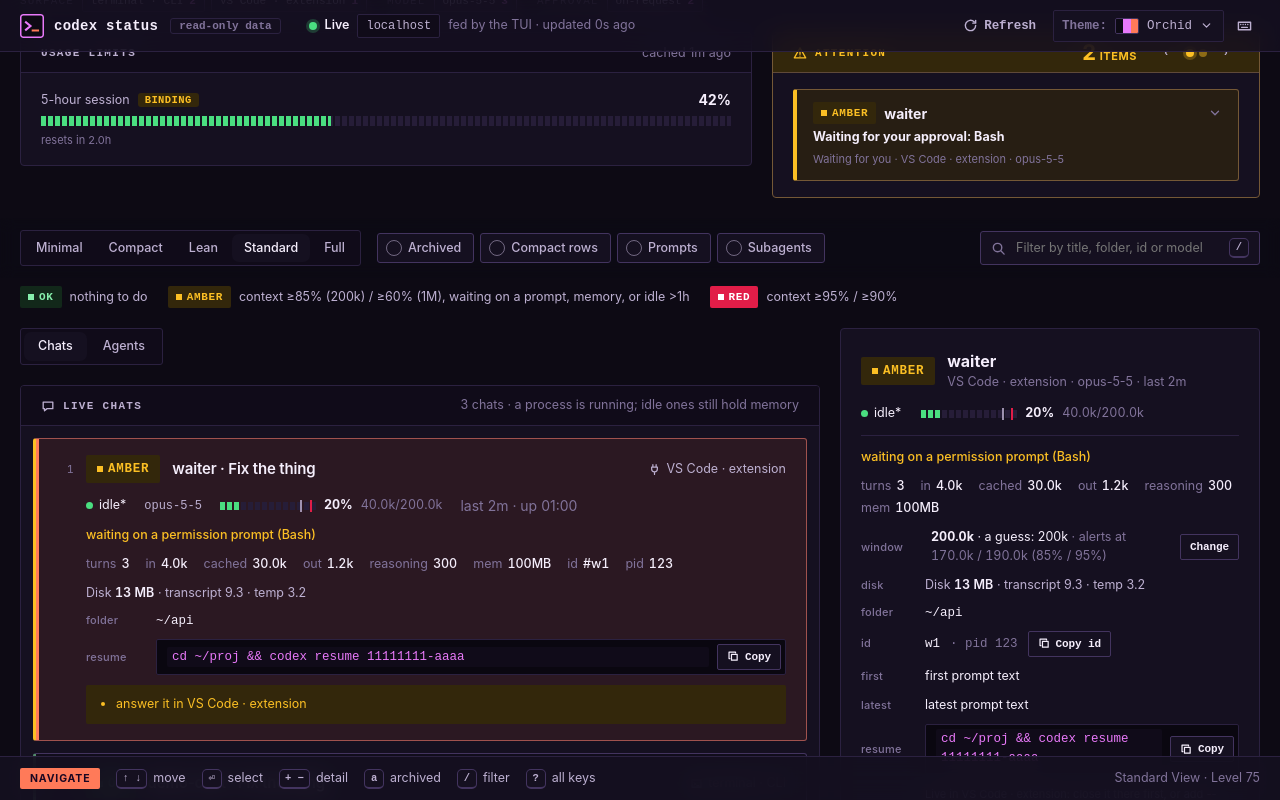
it: App › attention: a compact summary of the item in focus; arrows switch; a click opens details with the app link
The width and height of the screenshot is (1280, 800).
(page scrolled)
Expected: the element named "2 need attention" is shown, [1082,41,1137,65]
Expected: the text "waiter" is shown, [884,103,927,124]
Click the button "Waiting for your approval".
click(845, 113)  # box [793,90,1239,181]
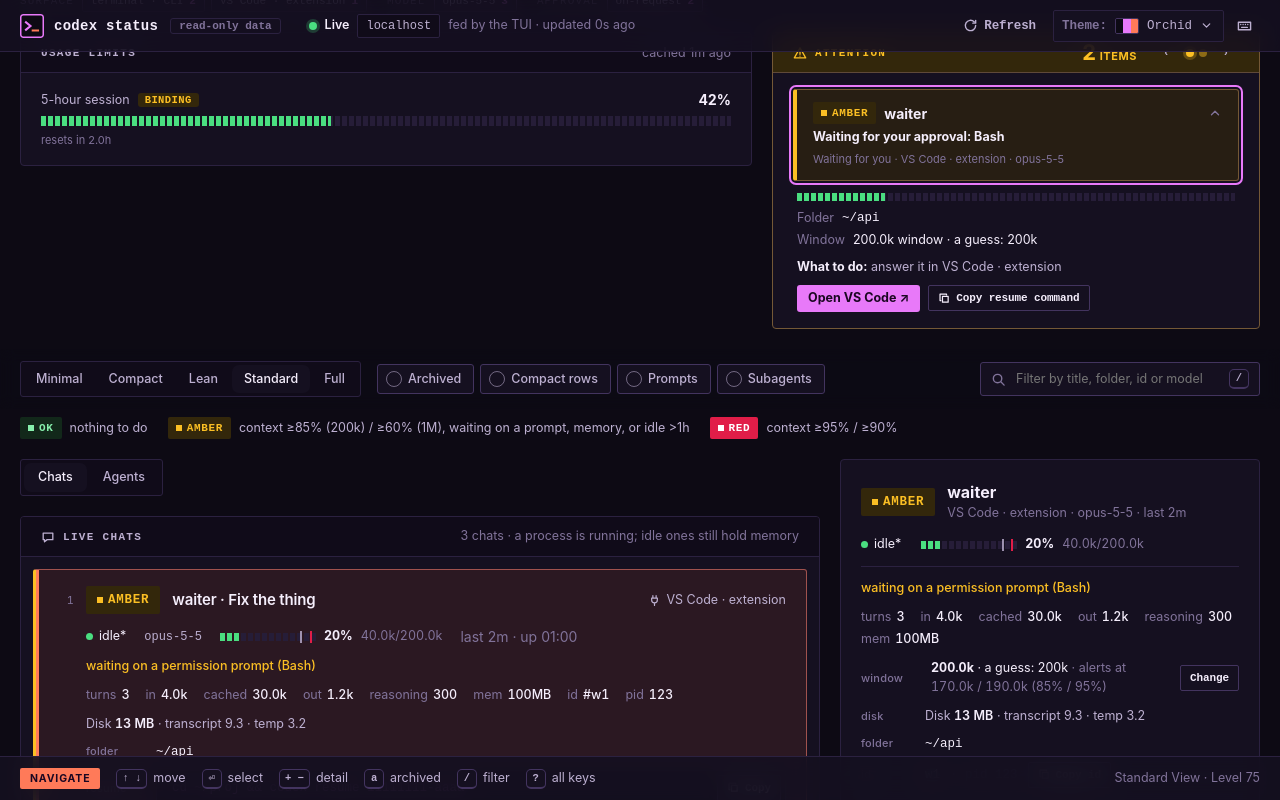
Result: the text "~/api" below "items" is shown at [842,211,880,225]
Click the button named "Next item".
click(1226, 53)  # box [1212,40,1239,66]
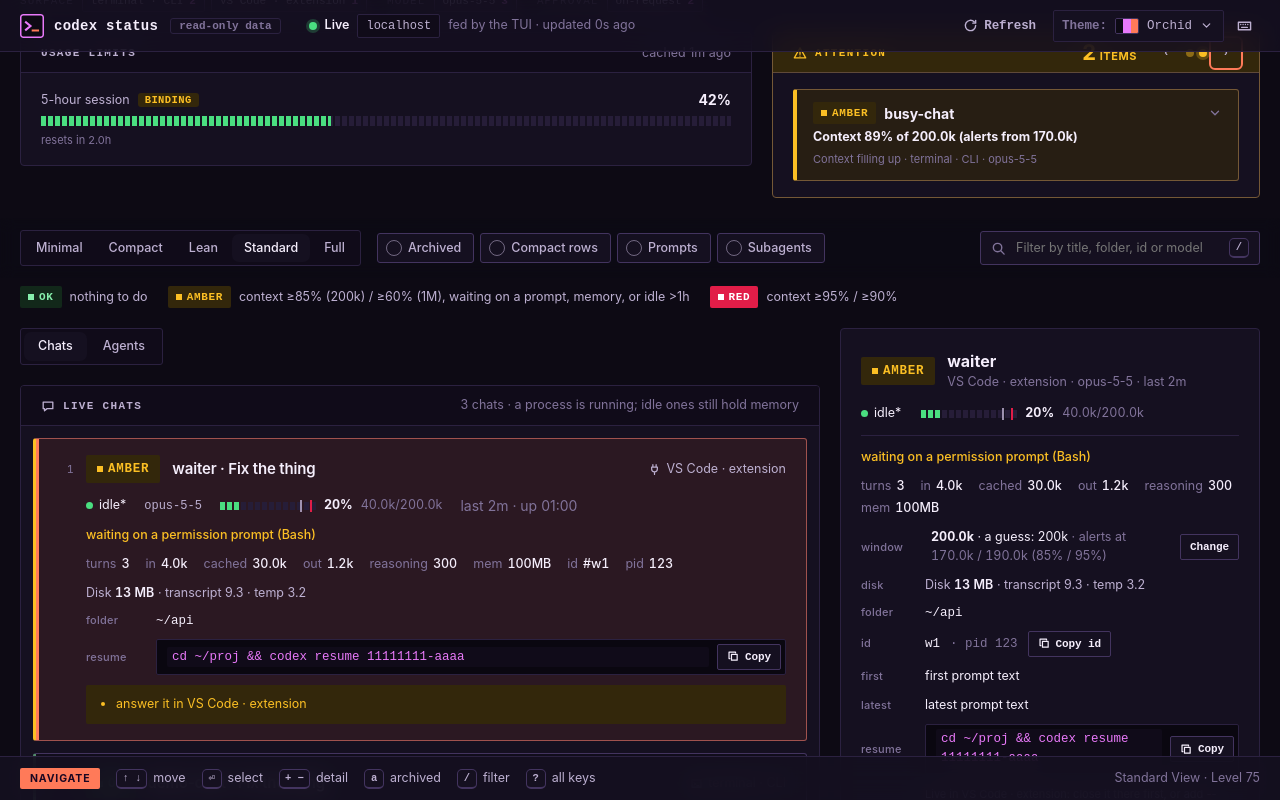
Result: the text "busy-chat" is shown at [884,103,954,124]
